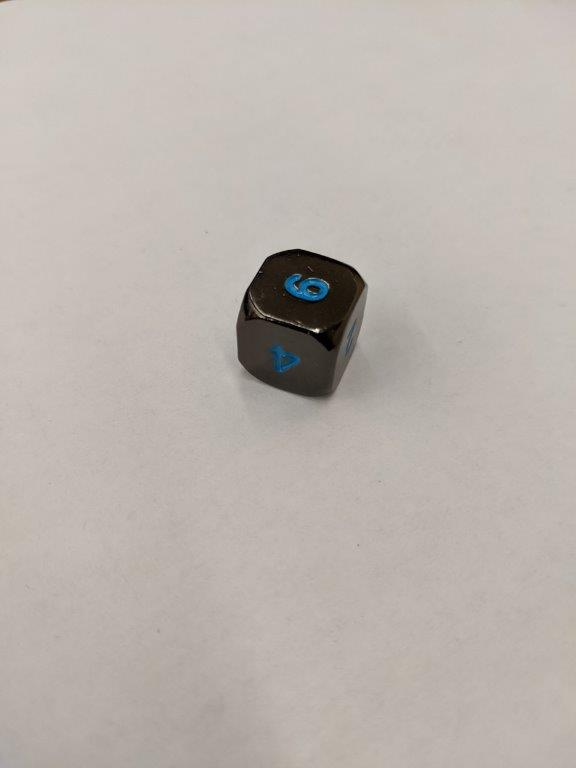d6-6: (233, 249, 366, 398)
